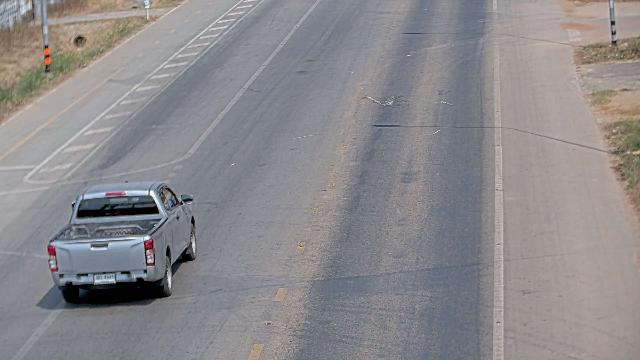pickup-truck: (46, 180, 197, 303)
